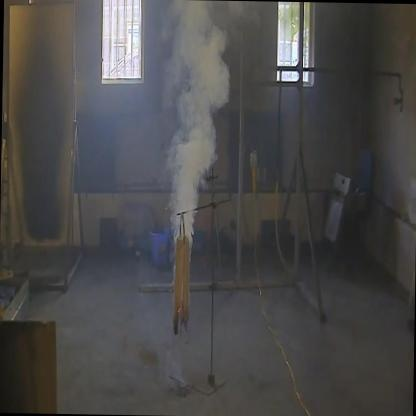smoke: (148, 0, 237, 253)
